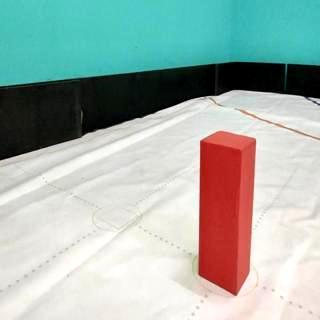redbox: (199, 130, 255, 298)
